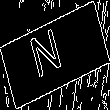N_S: (35, 24, 75, 86)
